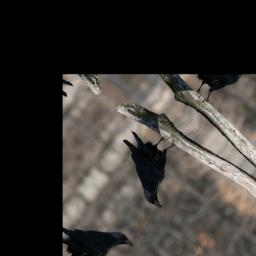Crow: (102, 114, 201, 213)
